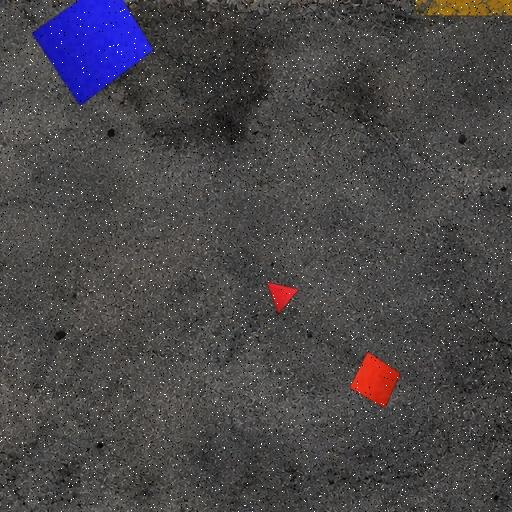BLUE_SQUARE: (31, 0, 154, 106)
RED_SQUARE: (348, 351, 402, 409)
